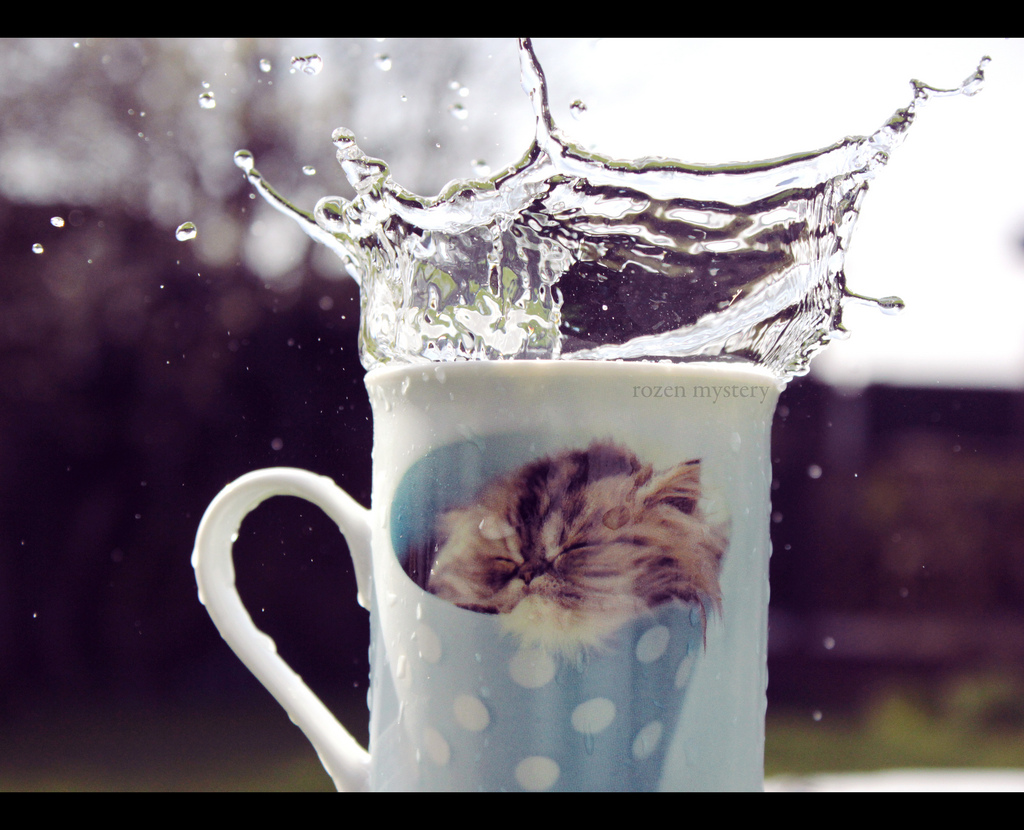glass of water: (321, 203, 805, 788)
